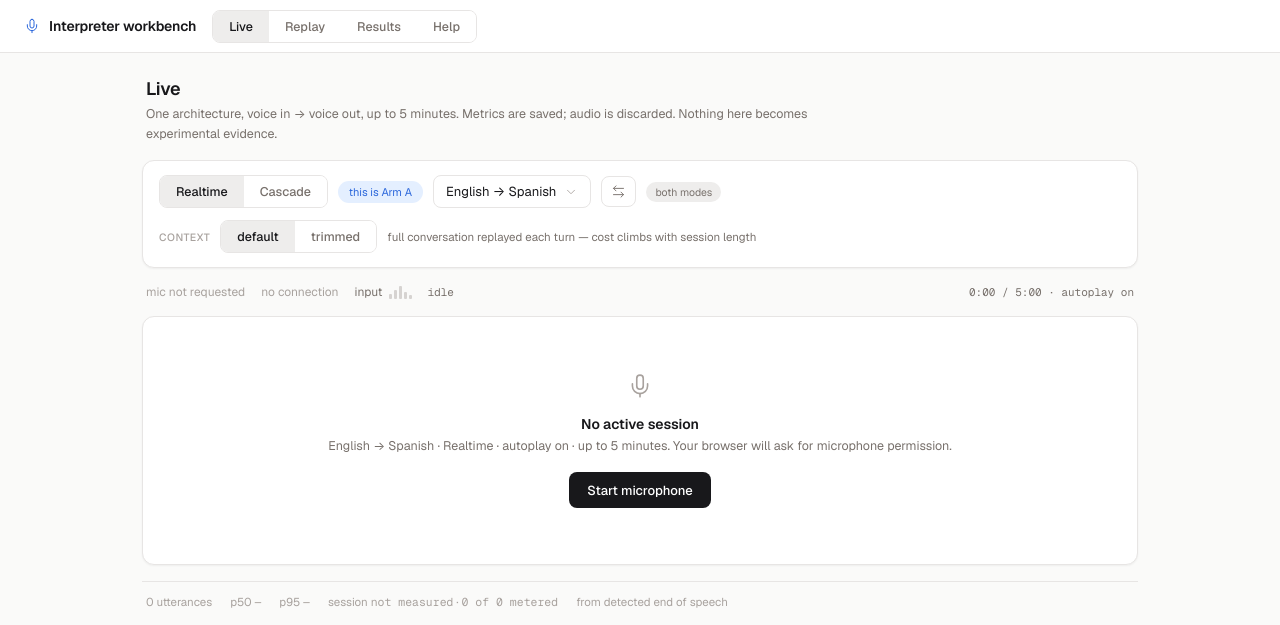
mic permission: live four-value indicator › granted once capture resolves → live dot, listening, connected
What coordinates should you click on to do the following:
click the button "Start microphone"
I would click on:
 (640, 490)
Its box is [569,472,711,508].
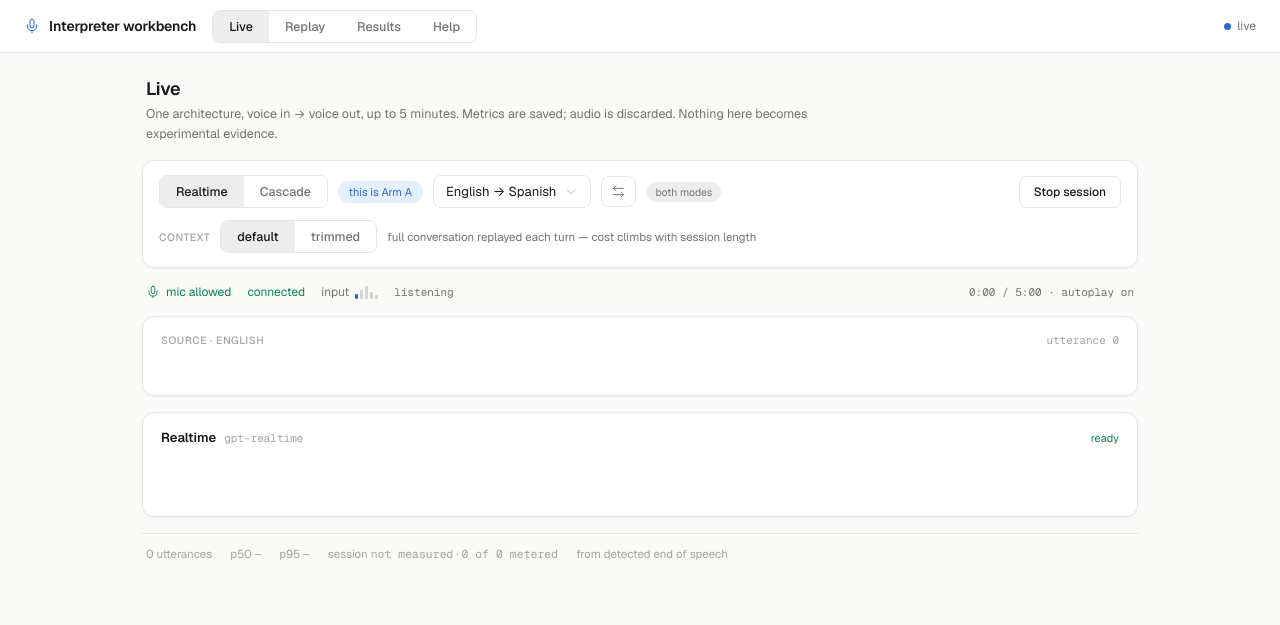
Expected: the element showing "mic allowed" is shown, [146,284,231,300]
Expected: the element showing "live" is shown, [1224,18,1256,34]
Expected: the text "listening" is shown, [394,285,454,299]
